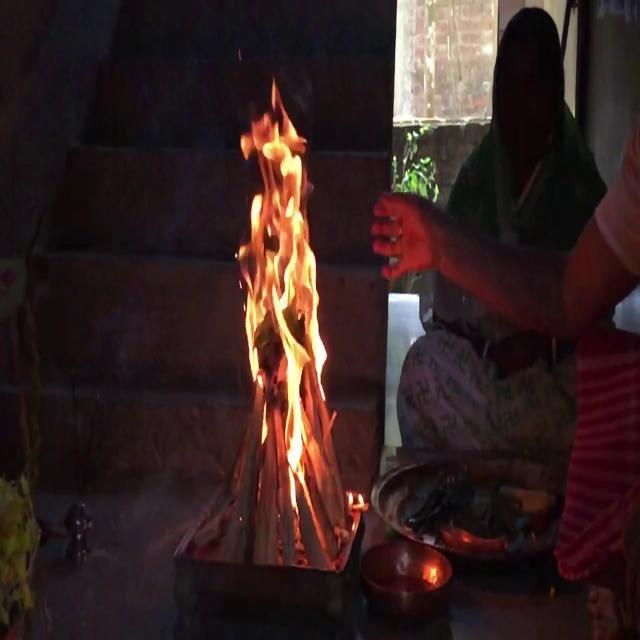Fire: (227, 73, 335, 475)
